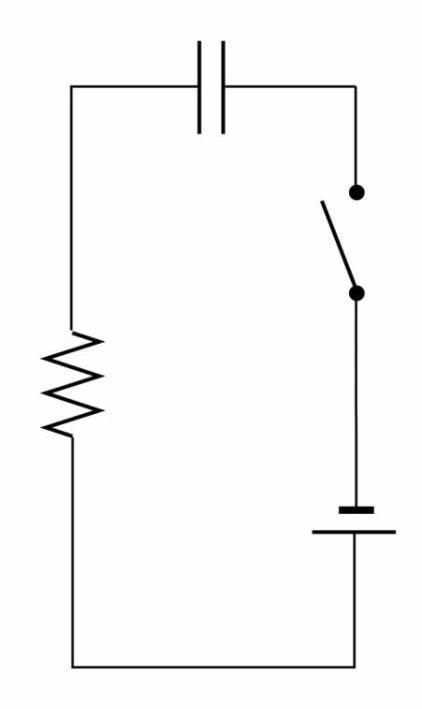resistor: (22, 297, 118, 485)
